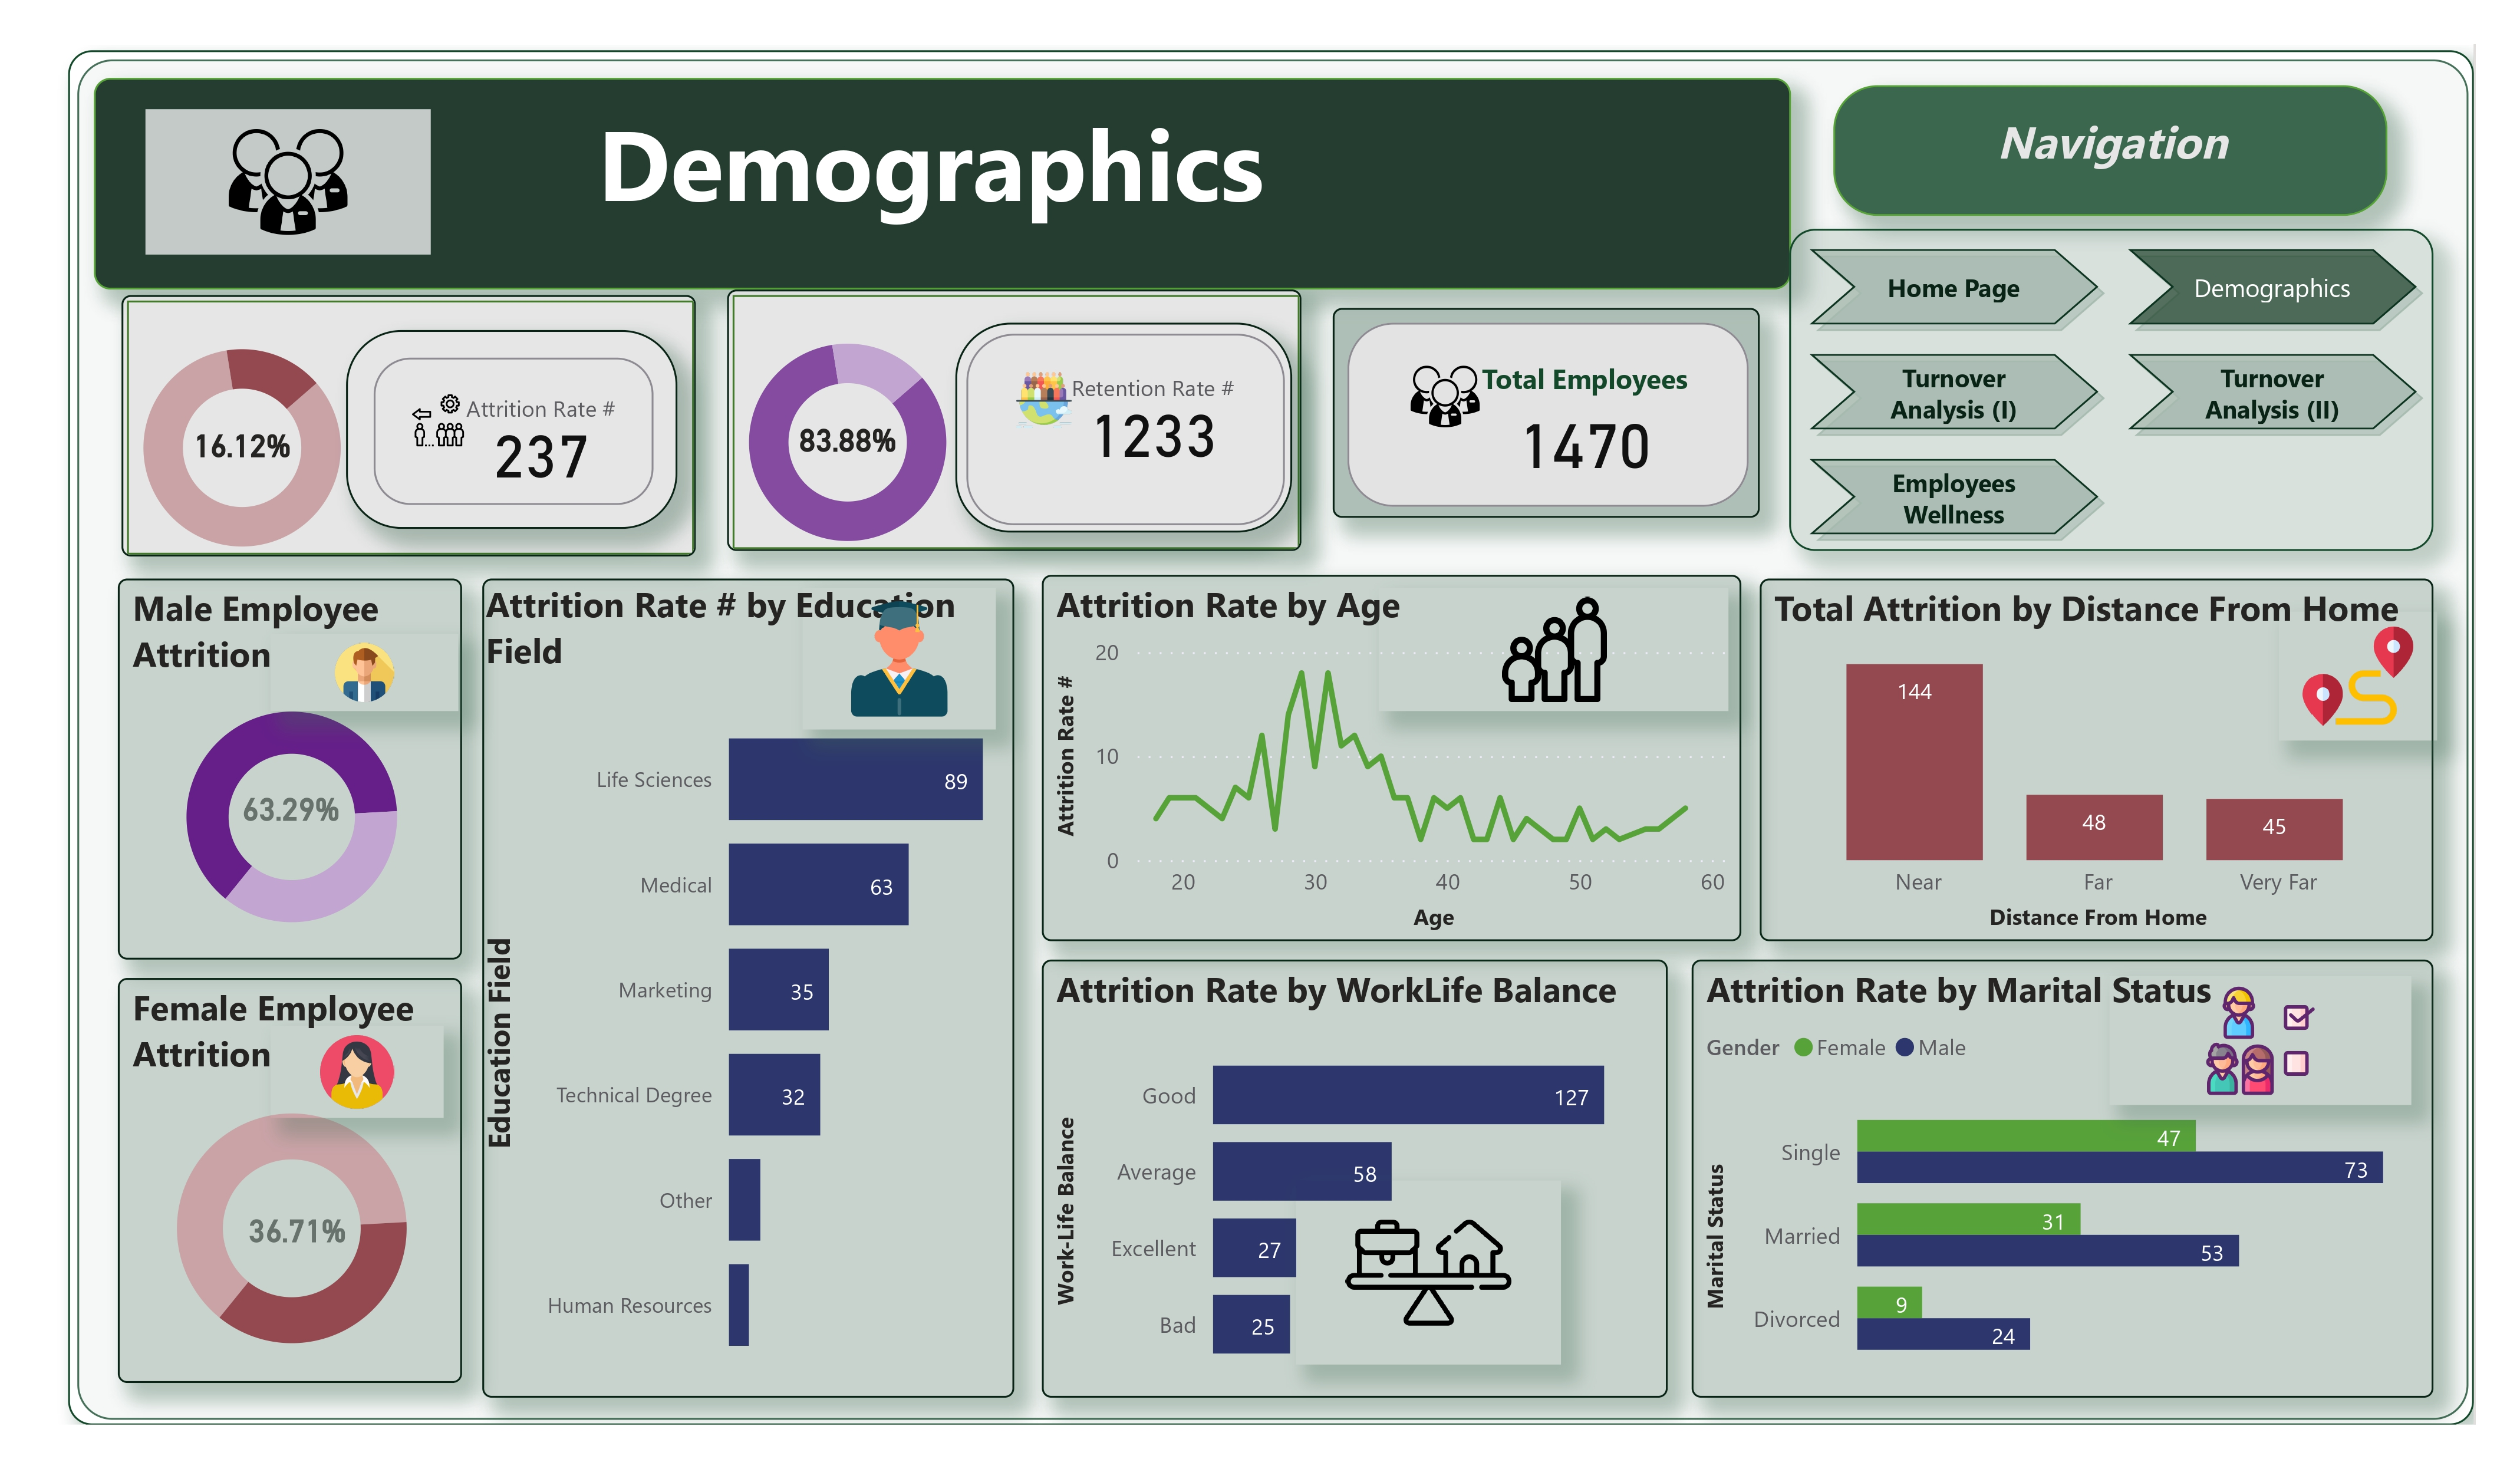

The page's visual inventory and layout, read from the dashboard file:
{"tool":"powerbi","page":{"name":"Demographics ","canvas":[1320,750],"ordinal":2},"visuals":[{"type":"shape","box":[13.3,3.3,1306.7,746.7],"z":0},{"type":"shape","box":[370.8,133.3,311.8,142.1],"z":0,"group":"g2"},{"type":"shape","box":[42,135.5,311.8,142.1],"z":0,"group":"g1"},{"type":"textbox","box":[26.5,18.4,922.4,114.3],"z":1000},{"type":"donutChart","fields":{"Y":["HR-Employee-Attrition.Total # of Employees"],"Category":["HR-Employee-Attrition.Attrition"]},"box":[355,143.8,163.2,144.7],"z":1000,"group":"g2"},{"type":"donutChart","fields":{"Y":["HR-Employee-Attrition.Total # of Employees"],"Category":["HR-Employee-Attrition.Attrition"]},"box":[26.2,146,163.2,144.7],"z":1000,"group":"g1"},{"type":"image","box":[55.1,34.7,155.1,79.6],"z":2000},{"type":"cardVisual","fields":{"Data":["HR-Employee-Attrition.Retention Rate #"]},"box":[495,151.6,183.3,113.3],"z":2000,"group":"g2"},{"type":"cardVisual","fields":{"Data":["HR-Employee-Attrition.Attrition Rate #"]},"box":[164.2,154.7,180,108.3],"z":2000,"group":"g1"},{"type":"cardVisual","fields":{"Data":["HR-Employee-Attrition.Total # of Employees"]},"box":[700,143.3,231.7,113.3],"z":3000},{"type":"card","fields":{"Values":["HR-Employee-Attrition.Retention Rate %"]},"box":[391.8,172.8,89.5,86.8],"z":3000,"group":"g2"},{"type":"card","fields":{"Values":["HR-Employee-Attrition.Attrition Rate %"]},"box":[63,175,89.5,86.8],"z":3000,"group":"g1"},{"type":"group","id":"g1","title":"Group 1","box":[26.2,135.5,327.6,155.3],"z":4000},{"type":"group","id":"g2","title":"Group 1","box":[355,133.3,328.3,155],"z":5000},{"type":"columnChart","title":"Total Attrition by Distance From Home","fields":{"Category":["HR-Employee-Attrition.DistanceFromHome (groups)"],"Y":["HR-Employee-Attrition.Attrition Rate #"]},"box":[931.7,290,366.7,196.7],"z":6000},{"type":"clusteredBarChart","title":"Attrition Rate by Marital Status","fields":{"Y":["HR-Employee-Attrition.Attrition Rate #"],"Category":["HR-Employee-Attrition.MaritalStatus"],"Series":["HR-Employee-Attrition.Gender"]},"box":[895,496.7,403.3,238.3],"z":7000},{"type":"card","fields":{"Values":["HR-Employee-Attrition.% of Males"]},"box":[93.3,371.7,81.7,88.3],"z":8000},{"type":"card","fields":{"Values":["HR-Employee-Attrition.% of Females"]},"box":[93.3,601.7,88.3,86.7],"z":9000},{"type":"image","box":[1214.3,308.2,85.7,69.4],"z":10000},{"type":"image","box":[1122.4,506.1,163.3,69.4],"z":11000},{"type":"clusteredBarChart","title":"Attrition Rate  by WorkLife Balance","fields":{"Category":["HR-Employee-Attrition.WorkLifeBalance (groups)"],"Y":["HR-Employee-Attrition.Attrition Rate #"]},"box":[541.7,496.7,340,238.3],"z":12000},{"type":"lineChart","title":"Attrition Rate by Age","fields":{"Category":["HR-Employee-Attrition.Age"],"Y":["HR-Employee-Attrition.Attrition Rate #"]},"box":[541.7,288.3,380,198.3],"z":13000},{"type":"barChart","title":"Attrition Rate # by Education Field","fields":{"Category":["HR-Employee-Attrition.EducationField"],"Y":["HR-Employee-Attrition.Attrition Rate #"]},"box":[238.3,290,288.3,445],"z":14000},{"type":"donutChart","title":"Male Employee Attrition ","fields":{"Category":["HR-Employee-Attrition.Gender"],"Y":["HR-Employee-Attrition.Attrition Rate #"]},"box":[40,290,186.7,206.7],"z":15000},{"type":"donutChart","title":"Female Employee Attrition ","fields":{"Category":["HR-Employee-Attrition.Gender"],"Y":["HR-Employee-Attrition.Attrition Rate #"]},"box":[40,506.7,186.7,220],"z":16000},{"type":"textbox","box":[971.7,21.7,301.7,71.7],"z":18000},{"type":"image","box":[123.3,533.3,93.3,50],"z":19000},{"type":"image","box":[123.3,320,101.7,41.7],"z":20000},{"type":"image","box":[680.3,617.1,143.4,100],"z":21000},{"type":"image","box":[411.7,295,105,76.7],"z":22000},{"type":"image","box":[725,295,190,66.7],"z":23000},{"type":"pageNavigator","box":[948.3,100,350,175],"z":23001}]}

Visuals, with their boxes in screenshot pixels (x1, y1, x2, y2):
shape: <box>96,52,2469,1408</box>
shape: <box>746,288,1312,546</box>
shape: <box>149,292,714,550</box>
textbox: <box>120,80,1796,287</box>
donutChart - HR-Employee-Attrition.Total # of Employees x HR-Employee-Attrition.Attrition: <box>717,307,1013,570</box>
donutChart - HR-Employee-Attrition.Total # of Employees x HR-Employee-Attrition.Attrition: <box>120,311,416,574</box>
image: <box>172,109,454,253</box>
cardVisual - HR-Employee-Attrition.Retention Rate #: <box>971,321,1304,527</box>
cardVisual - HR-Employee-Attrition.Attrition Rate #: <box>370,327,697,523</box>
cardVisual - HR-Employee-Attrition.Total # of Employees: <box>1343,306,1764,512</box>
card - HR-Employee-Attrition.Retention Rate %: <box>783,360,946,518</box>
card - HR-Employee-Attrition.Attrition Rate %: <box>187,364,349,521</box>
"Group 1" group: <box>120,292,714,574</box>
"Group 1" group: <box>717,288,1313,569</box>
"Total Attrition by Distance From Home" columnChart: <box>1764,572,2430,930</box>
"Attrition Rate by Marital Status" clusteredBarChart: <box>1698,948,2430,1381</box>
card - HR-Employee-Attrition.% of Males: <box>242,721,390,881</box>
card - HR-Employee-Attrition.% of Females: <box>242,1139,402,1296</box>
image: <box>2277,605,2433,732</box>
image: <box>2110,965,2407,1091</box>
"Attrition Rate  by WorkLife Balance" clusteredBarChart: <box>1056,948,1674,1381</box>
"Attrition Rate by Age" lineChart: <box>1056,569,1746,930</box>
"Attrition Rate # by Education Field" barChart: <box>505,572,1029,1381</box>
"Male Employee Attrition " donutChart: <box>145,572,484,948</box>
"Female Employee Attrition " donutChart: <box>145,966,484,1366</box>
textbox: <box>1837,85,2384,216</box>
image: <box>296,1015,466,1105</box>
image: <box>296,627,481,703</box>
image: <box>1307,1167,1568,1348</box>
image: <box>820,582,1010,721</box>
image: <box>1389,582,1734,703</box>
pageNavigator: <box>1794,228,2430,545</box>
